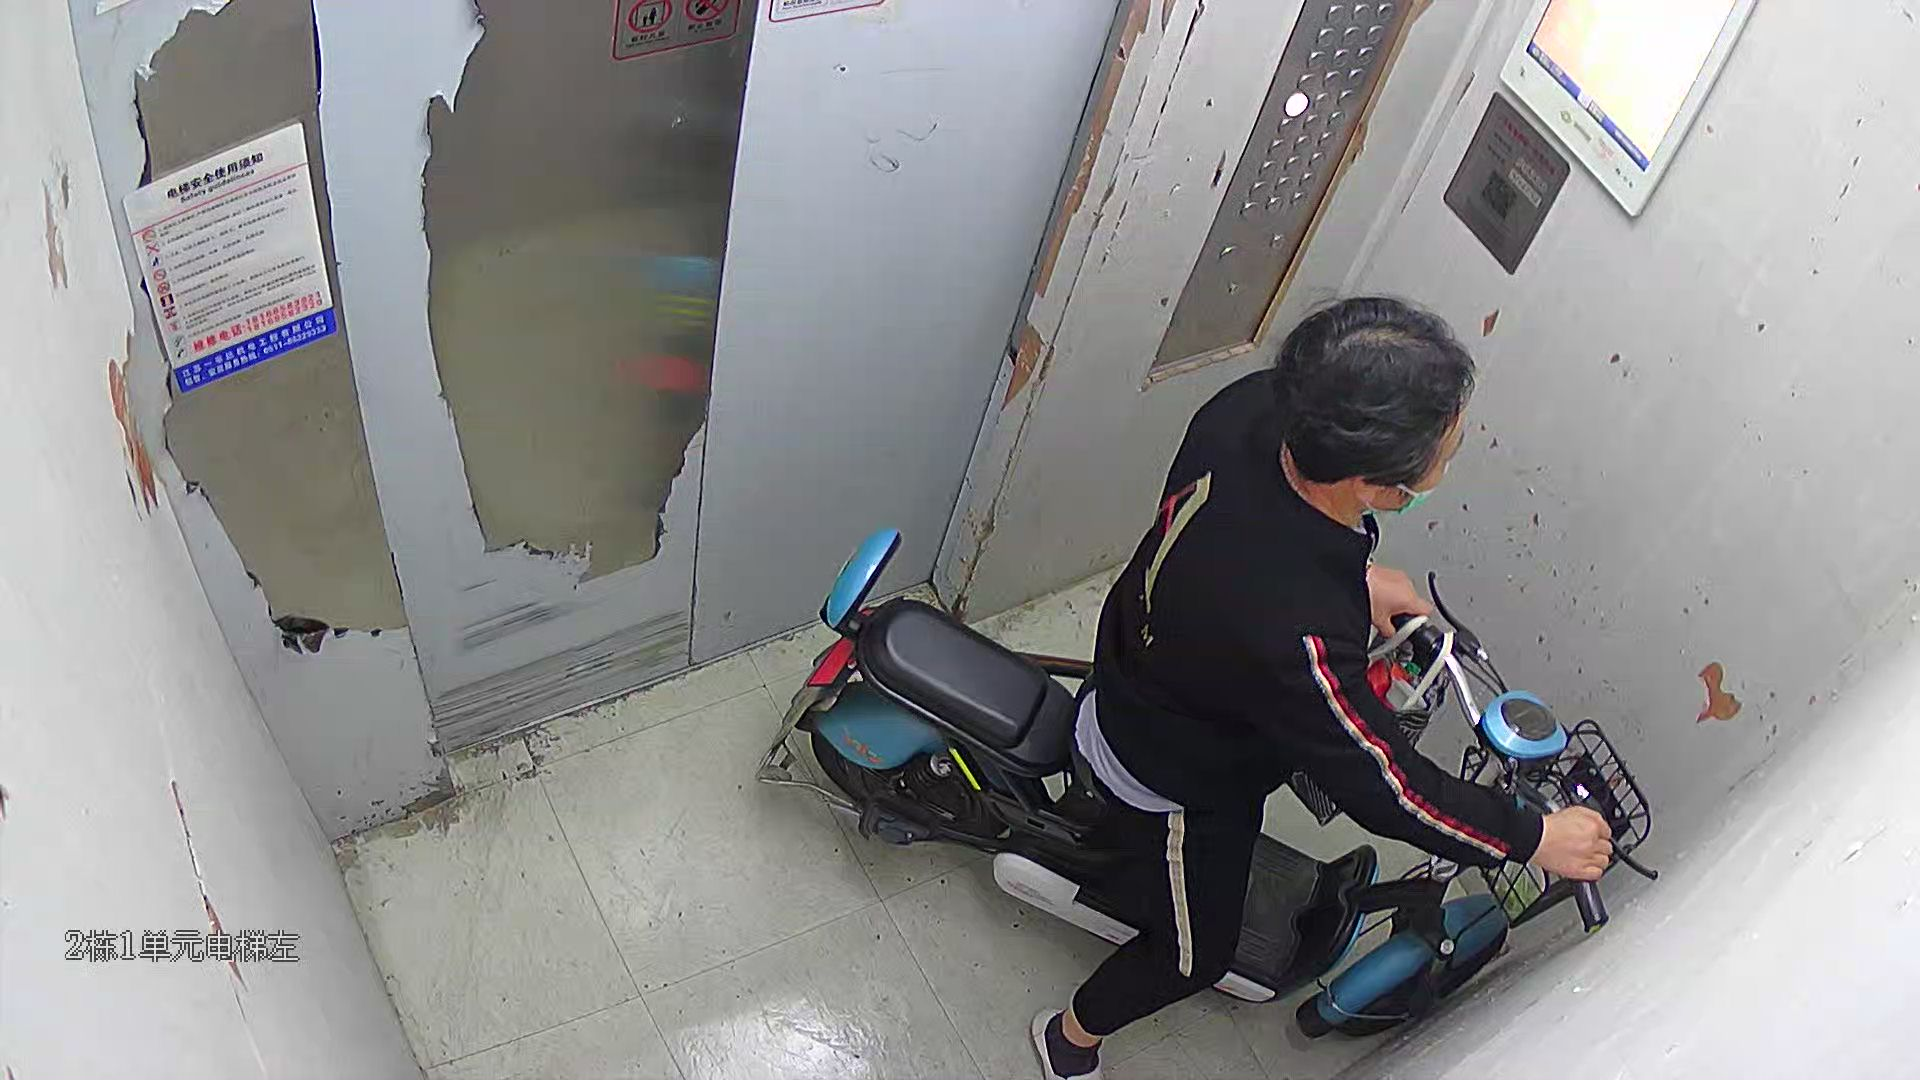Electric-bicycle: (770, 529, 1655, 1026)
